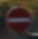No entry: (5, 6, 33, 34)
